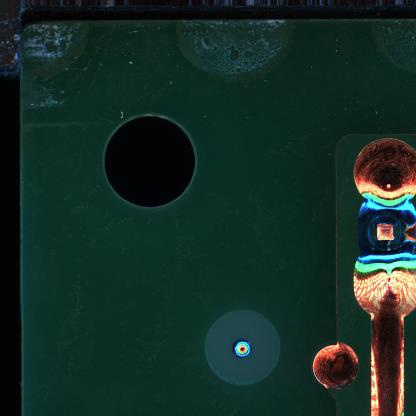spot: (354, 195, 416, 264)
